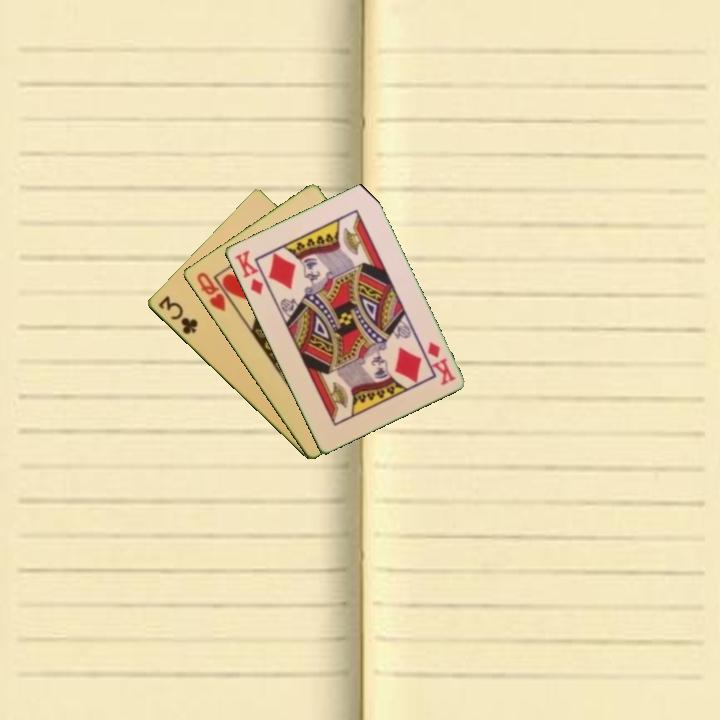3c: (154, 292, 200, 337)
Kd: (231, 246, 266, 298), (423, 338, 458, 388)
Qh: (193, 268, 228, 315)
